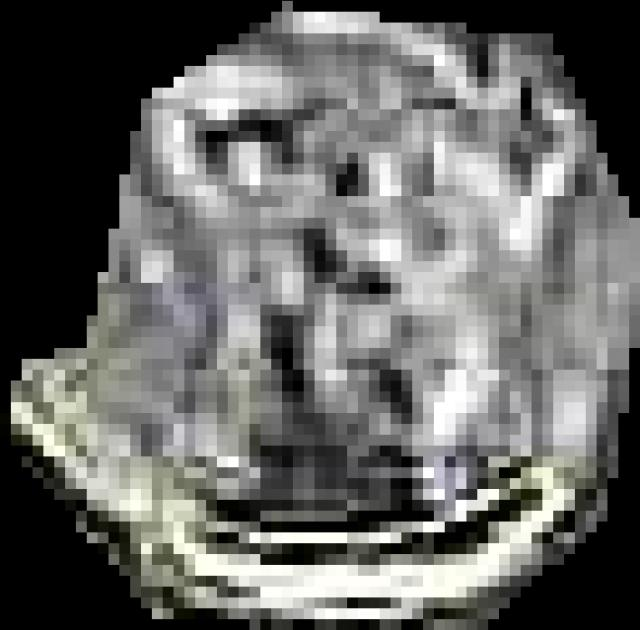tumor_good_chance: (0, 1, 640, 630)
